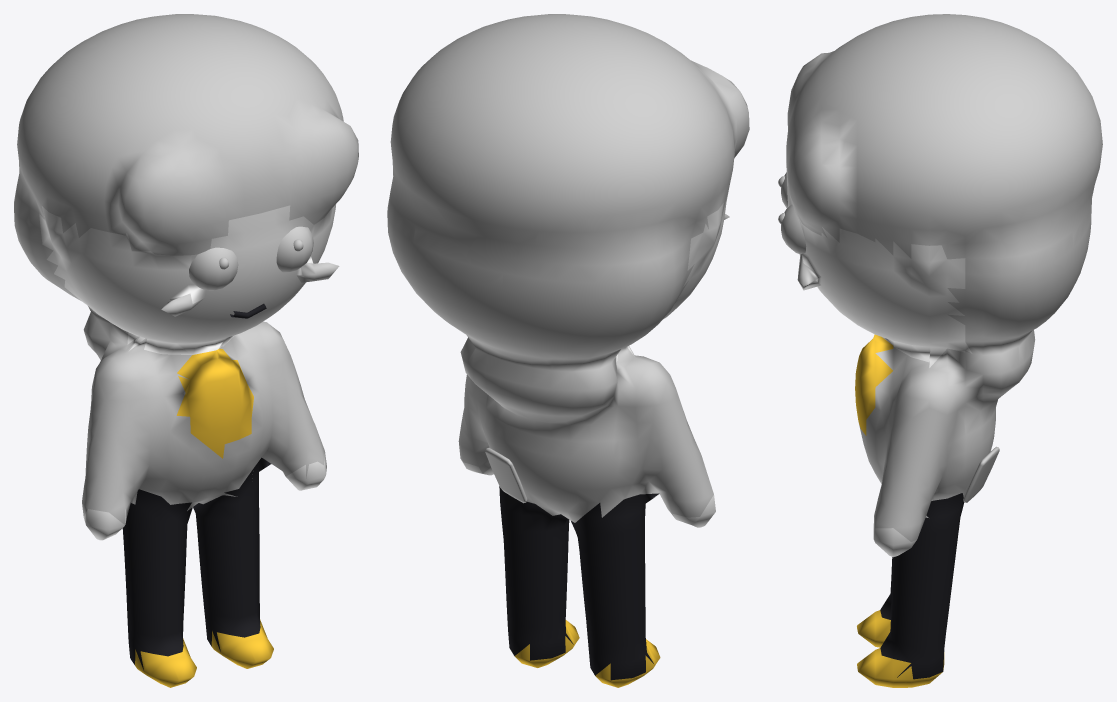
File: idol_boy_e.fbx
3 views of the same model, side by side, from view 1: azimuth 30°, elevation 25°; view 2: azimuth 150°, elevation 25°; view 3: azimuth 270°, elevation 25° (orthographic). The views are drawn at different scales.
Visible parts, largest first — view 1: idol_boy_e; view 2: idol_boy_e; view 3: idol_boy_e.
Part boxes in pixels (left/top/right/bottom): idol_boy_e: left=14, top=14, right=358, bottom=687; idol_boy_e: left=387, top=14, right=749, bottom=687; idol_boy_e: left=778, top=14, right=1102, bottom=687.
Size of the model in its own units: 0.5999 by 1.23 by 0.5766.
